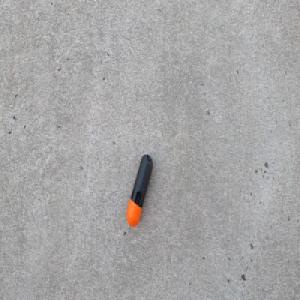PlasticPart: (125, 153, 153, 227)
